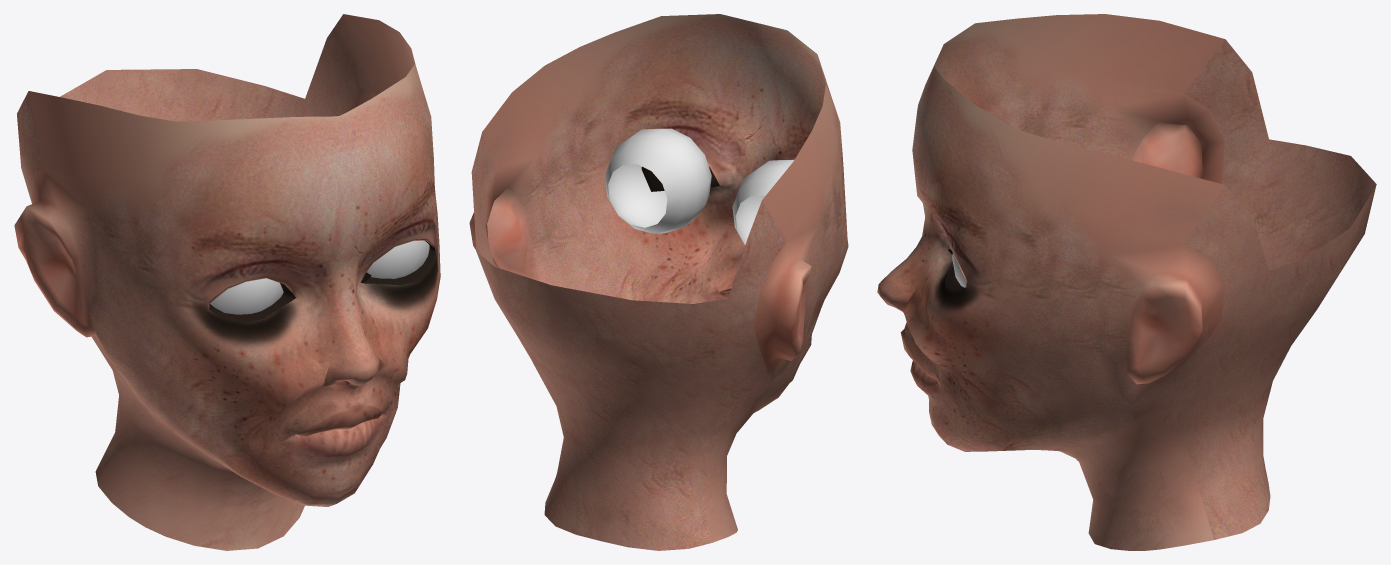
The model's file is woman1.fbx.
The picture shows the model from 3 angles, left to right: view 1: azimuth 30°, elevation 25°; view 2: azimuth 150°, elevation 25°; view 3: azimuth 270°, elevation 25°; orthographic projection. The views are drawn at different scales.
Visible parts, largest first — view 1: NEWOutfit1.001, Eyes; view 2: NEWOutfit1.001, Eyes; view 3: NEWOutfit1.001.
Part boxes in pixels (bbox=[...]): NEWOutfit1.001: bbox=[14, 14, 440, 550]; Eyes: bbox=[210, 240, 429, 314]; NEWOutfit1.001: bbox=[469, 14, 848, 550]; Eyes: bbox=[605, 128, 794, 245]; NEWOutfit1.001: bbox=[877, 14, 1376, 550].
Bounding box in the file's own units: 14.66 × 18.84 × 18.07.
Materials: 1 (1 with a texture image).
